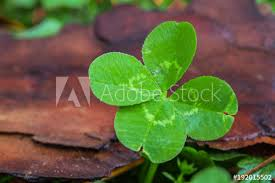4-clover: (89, 18, 236, 163)
